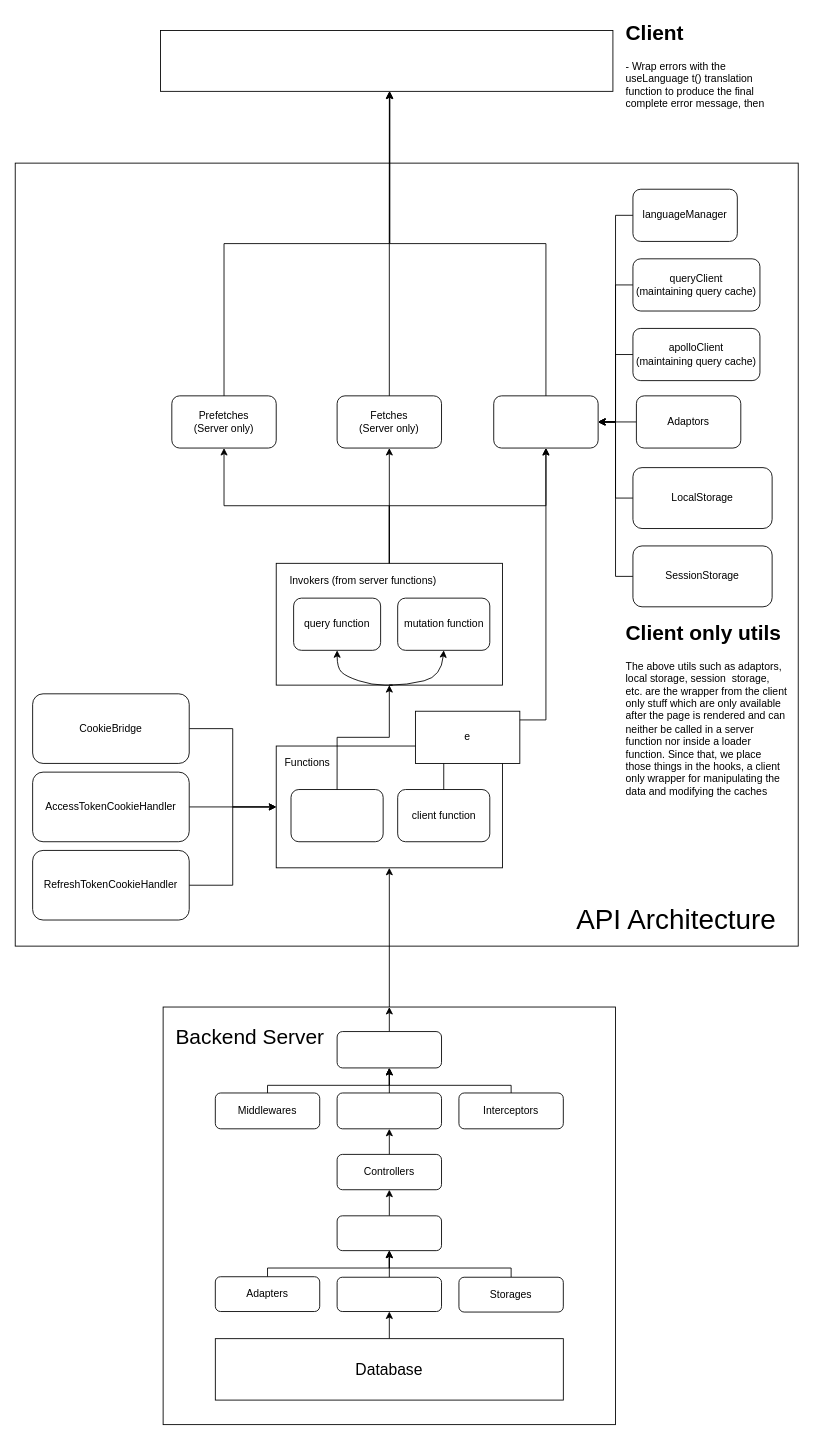
The diagram is 813 pixels wide and 1440 high, and some of its shapes have lost their labels. The box of each missing label's shape, as (x1, y1, x2, y2) in pixels:
Binders: (336, 1092, 442, 1129)
Frontend Client: (160, 30, 613, 91)
Hooks (Client only): (493, 395, 598, 448)
Repositories: (336, 1276, 442, 1312)
Routes: (336, 1031, 442, 1068)
server function: (290, 789, 383, 842)
Services: (336, 1215, 442, 1251)
